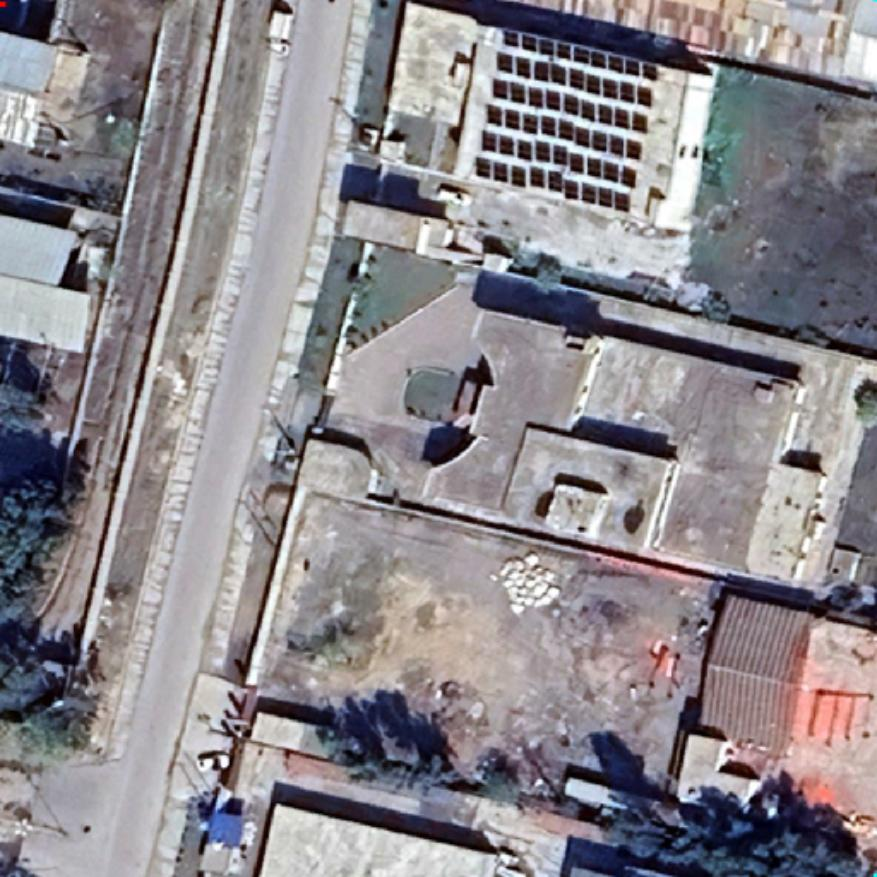Solarpanel: (466, 22, 666, 218)
